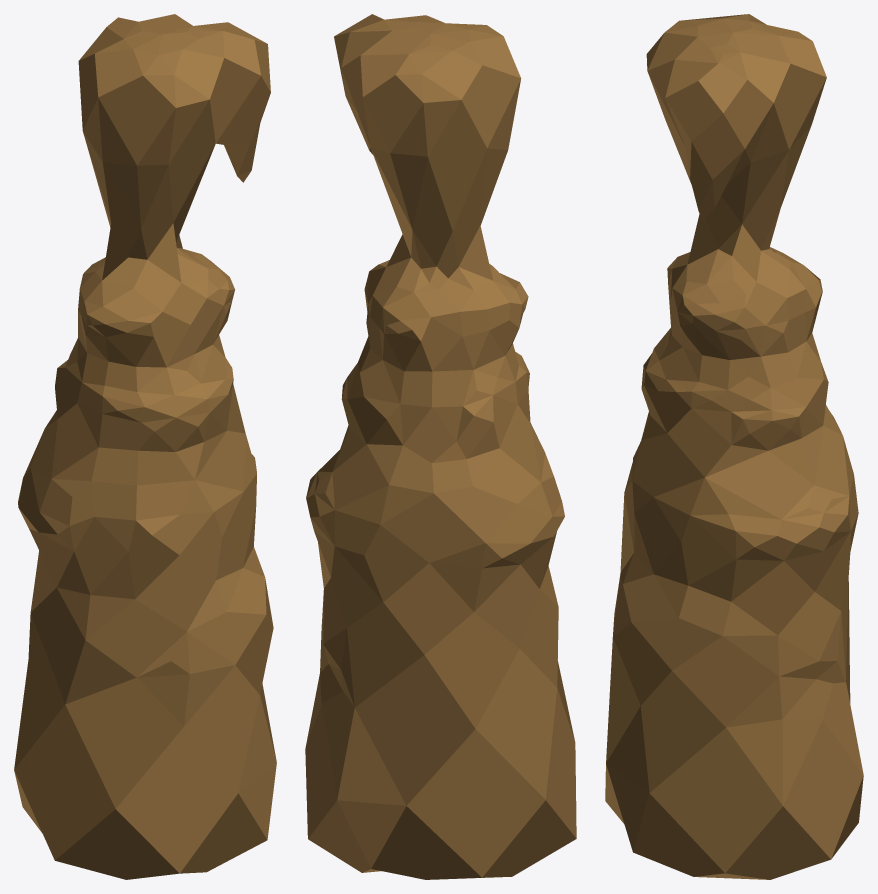
The model's file is cavern_pillar.fbx.
3 views of the same model, side by side, from view 1: azimuth 30°, elevation 25°; view 2: azimuth 150°, elevation 25°; view 3: azimuth 270°, elevation 25° (orthographic).
Visible parts, largest first — view 1: Cylinder; view 2: Cylinder; view 3: Cylinder.
Boxes of the visible parts, x1,y1,x2,y2 form: Cylinder: (14, 14, 276, 879); Cylinder: (305, 14, 576, 879); Cylinder: (605, 14, 863, 879).
Bounding box in the file's own units: 251 × 842 × 239.
